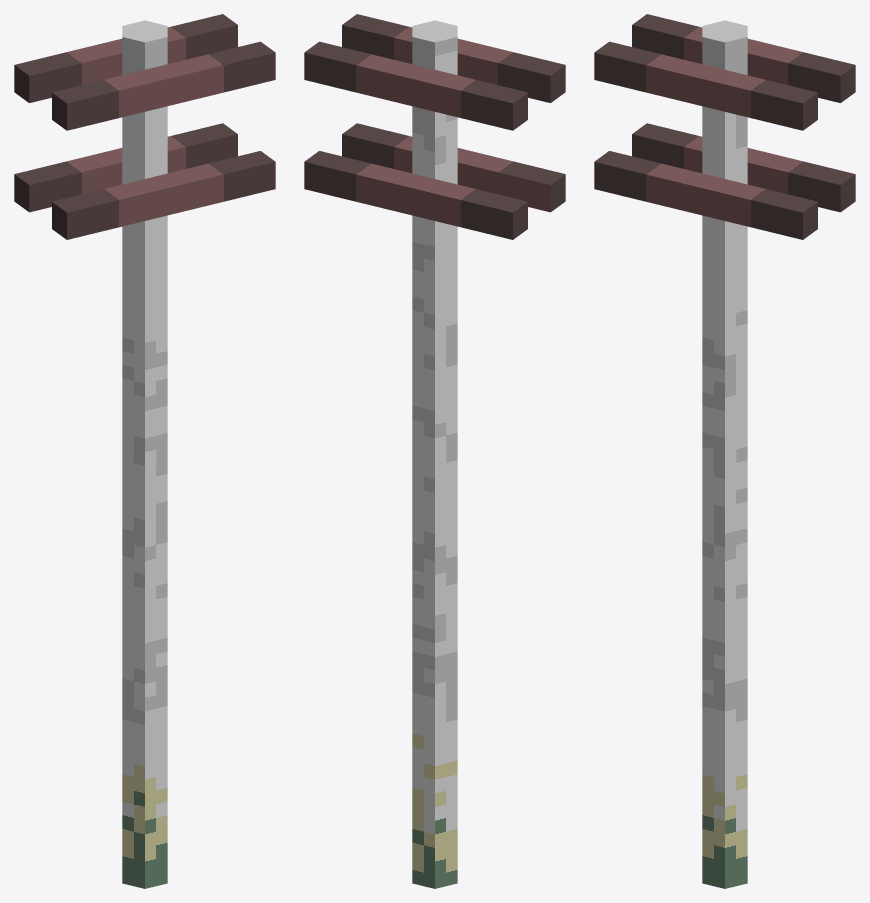
The model's file is Tiang_Listrik.fbx.
The picture shows the model from 3 angles, left to right: view 1: azimuth 30°, elevation 25°; view 2: azimuth 150°, elevation 25°; view 3: azimuth 330°, elevation 25°; orthographic projection.
Visible parts, largest first — view 1: Tiang, cube_3, cube, cube_2, cube_1; view 2: Tiang, cube_2, cube_1, cube_3, cube; view 3: Tiang, cube_3, cube, cube_2, cube_1.
Boxes of the visible parts, left/top/right/bottom form: Tiang: left=122, top=20, right=167, bottom=888; cube_3: left=52, top=151, right=275, bottom=239; cube: left=52, top=41, right=275, bottom=130; cube_2: left=14, top=123, right=237, bottom=212; cube_1: left=14, top=14, right=237, bottom=102; Tiang: left=412, top=20, right=457, bottom=888; cube_2: left=304, top=151, right=527, bottom=239; cube_1: left=304, top=41, right=527, bottom=130; cube_3: left=342, top=123, right=565, bottom=212; cube: left=342, top=14, right=565, bottom=102; Tiang: left=702, top=20, right=747, bottom=888; cube_3: left=594, top=151, right=817, bottom=239; cube: left=594, top=41, right=817, bottom=130; cube_2: left=632, top=123, right=855, bottom=212; cube_1: left=632, top=14, right=855, bottom=102.
Size of the model in its own units: 400 by 1550 by 175.
Materials: 1 (1 with a texture image).
